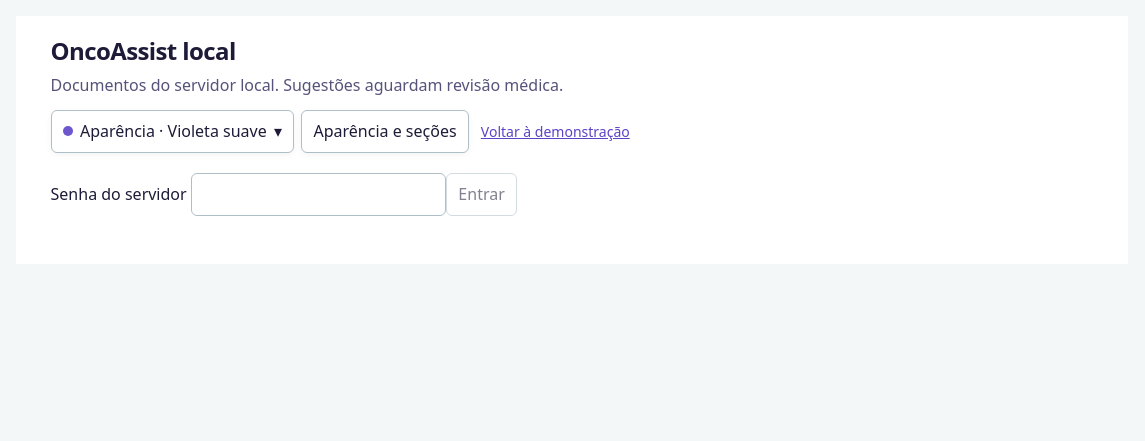
it: modo local explícito OncoAssist › rejeita resposta de consulta de outro paciente
In the password field labelled "Senha do servidor": (318, 194) [191, 173, 446, 216], type "senha-sintetica-para-teste"
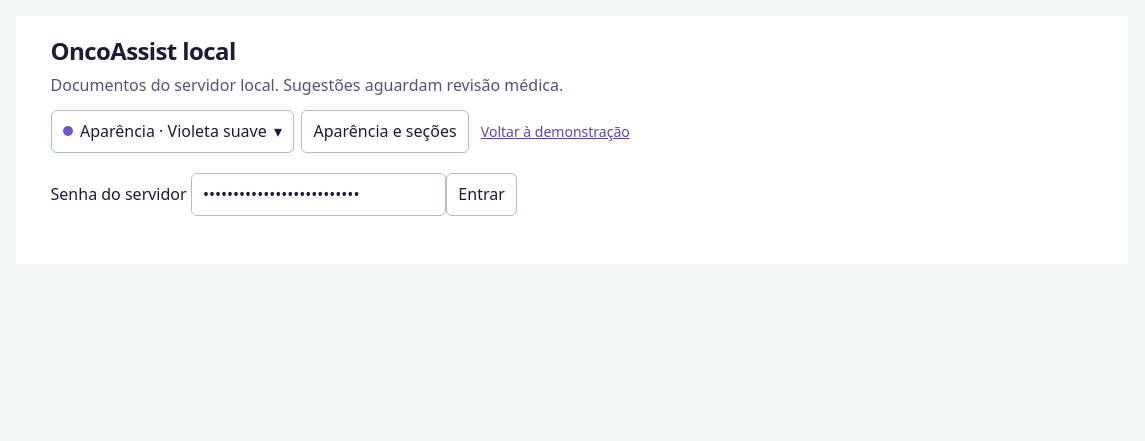
Click the button "Entrar": click(482, 194) [446, 173, 517, 216]
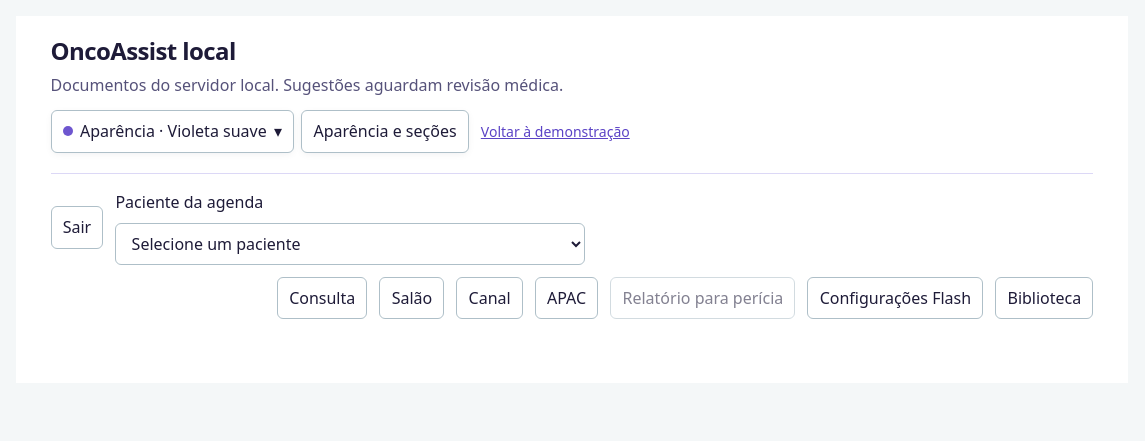
Select "08:00 — Pessoa sintética da agenda" in the dropdown labelled "Paciente da agenda": (350, 244) [115, 223, 585, 265]
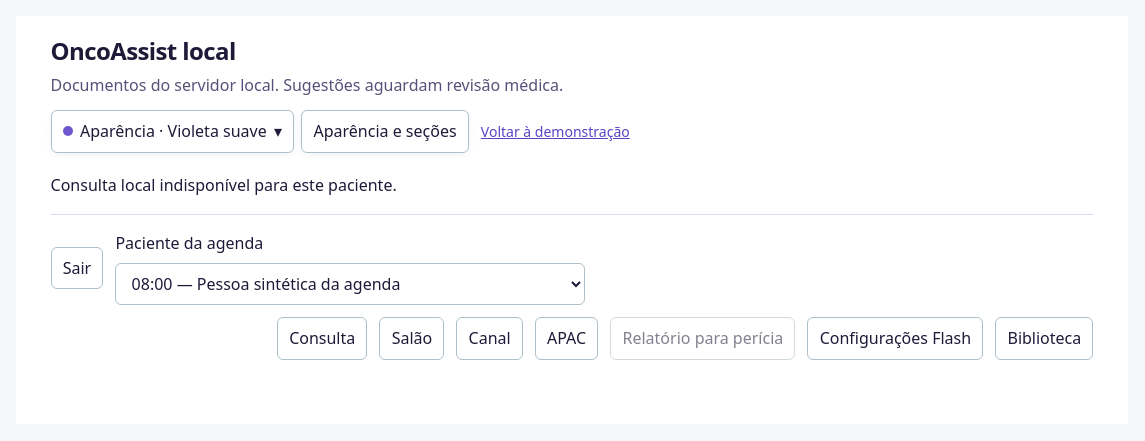
Result: the text "Consulta local indisponível para este paciente." is shown at [50, 174, 397, 196]
